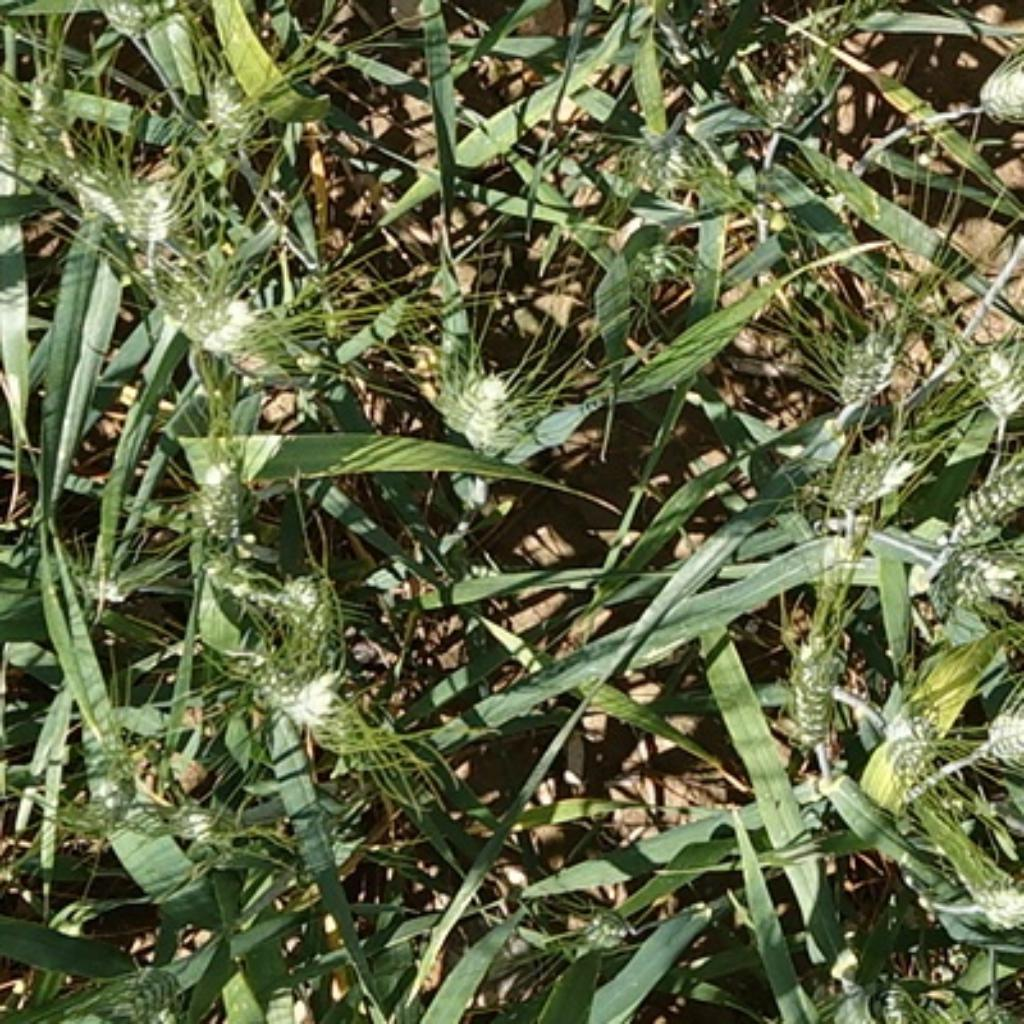0-0: (266, 657, 412, 770), (53, 138, 181, 248), (169, 264, 288, 375), (422, 348, 524, 448), (17, 30, 89, 171), (773, 616, 849, 747), (814, 422, 919, 509), (737, 46, 839, 135), (158, 778, 266, 862), (926, 527, 1024, 619), (176, 440, 263, 542), (952, 302, 1024, 419), (865, 680, 944, 785), (826, 307, 911, 404), (87, 949, 194, 1022), (942, 440, 1024, 535), (256, 558, 343, 645), (609, 110, 701, 192), (51, 537, 143, 619), (189, 56, 261, 153), (632, 232, 719, 302), (84, 755, 151, 834), (967, 46, 1024, 128), (558, 893, 637, 952), (970, 678, 1024, 762), (867, 975, 954, 1024), (960, 860, 1024, 926)
